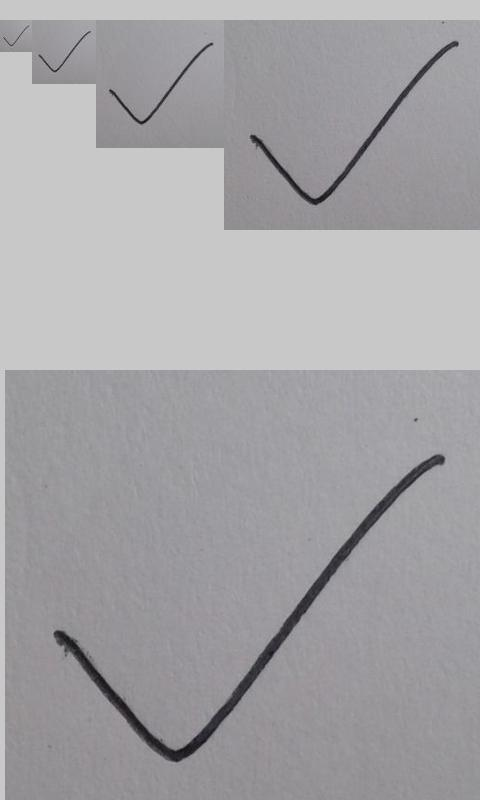check_box: (53, 452, 445, 764), (249, 40, 460, 206), (109, 43, 213, 125), (39, 31, 91, 72), (3, 25, 30, 47)
